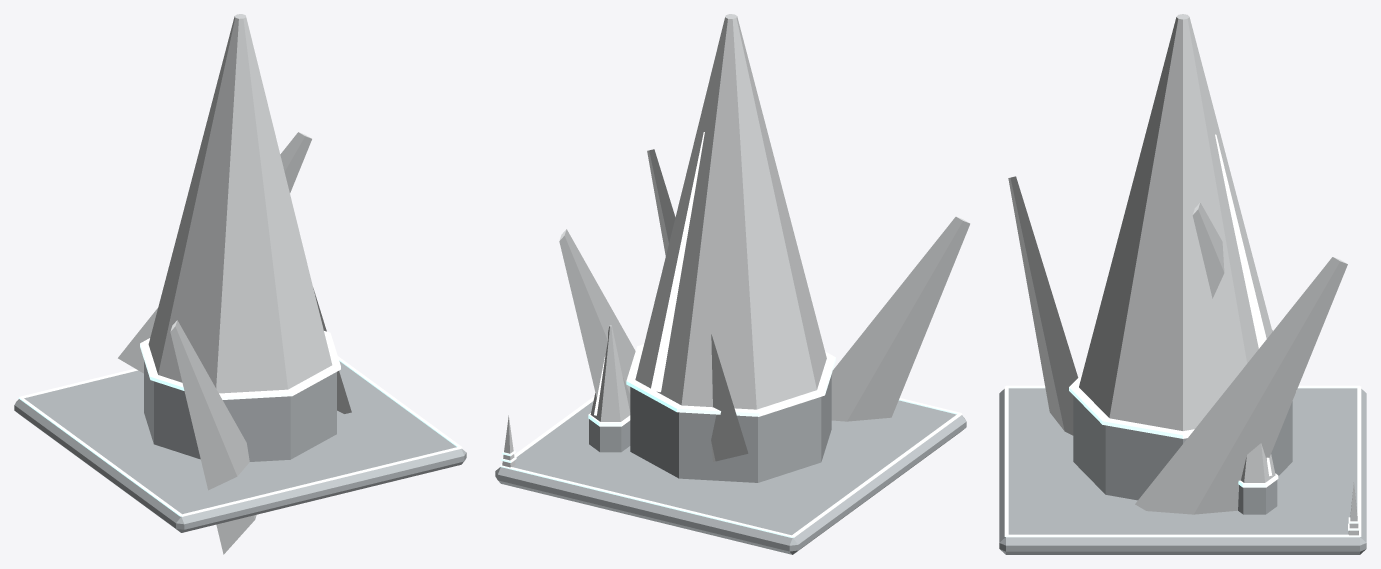
File: zone_high_1_t2.glb
3 views of the same model, side by side, from view 1: azimuth 30°, elevation 25°; view 2: azimuth 150°, elevation 25°; view 3: azimuth 270°, elevation 25° (orthographic). The views are drawn at different scales.
Parts seen in each view (by area): view 1: zone_high_1_t2, detail; view 2: zone_high_1_t2, detail; view 3: zone_high_1_t2, detail.
Part boxes in pixels (x1,y1,x2,y2): zone_high_1_t2: (14, 14, 466, 554); detail: (18, 356, 462, 516); zone_high_1_t2: (495, 14, 970, 554); detail: (500, 396, 962, 537); zone_high_1_t2: (999, 14, 1366, 554); detail: (1004, 385, 1361, 537).
Bounding box in the file's own units: 27.94 × 43.64 × 27.5.
